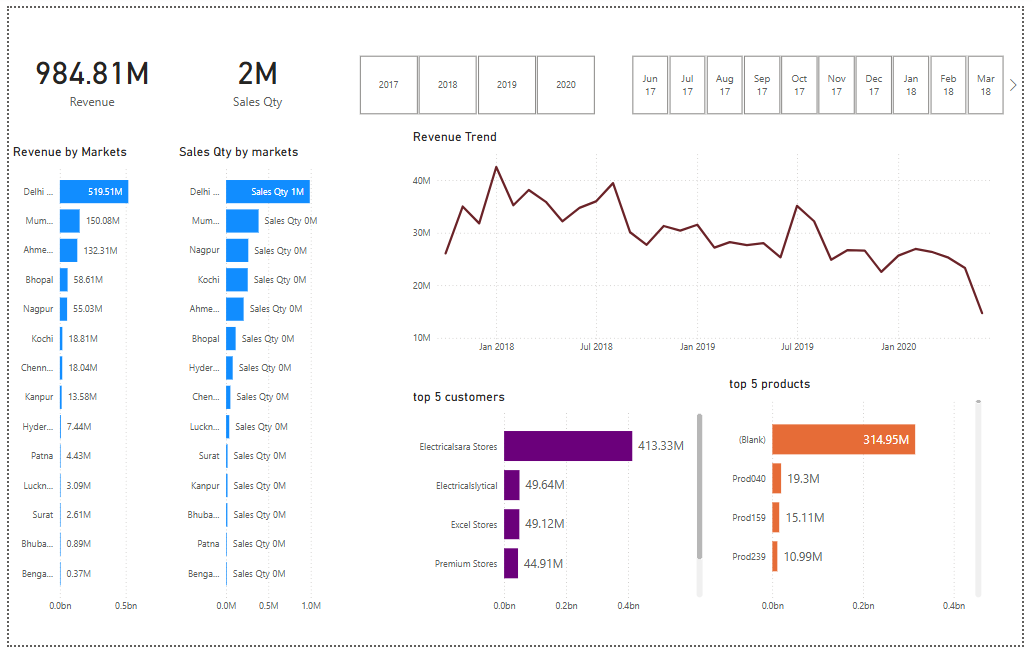

What the dashboard file says about the page in this screenshot:
{"tool":"powerbi","page":{"name":"Page 1","canvas":[1350,850],"ordinal":0},"visuals":[{"type":"card","fields":{"Values":["Basemeasure.Revenue"]},"box":[0,1.7,221.7,181.7],"z":0},{"type":"card","fields":{"Values":["Basemeasure.Sales Qty"]},"box":[221.7,1.7,220,181.7],"z":1000},{"type":"barChart","title":"Revenue by Markets","fields":{"Y":["Basemeasure.Revenue"],"Category":["sales markets.markets_name"]},"box":[0,181.7,221.7,633.3],"z":2000},{"type":"barChart","title":"Sales Qty by markets","fields":{"Y":["Basemeasure.Sales Qty"],"Category":["sales markets.markets_name"]},"box":[221.7,181.7,220,633.3],"z":3000},{"type":"slicer","fields":{"Values":["sales date.year"]},"box":[441.7,56.7,363.3,91.7],"z":4000},{"type":"slicer","fields":{"Values":["sales date.cy_date"]},"box":[805,56.7,545,91.7],"z":4001},{"type":"barChart","title":"top 5 customers","fields":{"Y":["Basemeasure.Revenue"],"Category":["sales customers.custmer_name"]},"box":[533.3,508.3,396.7,306.7],"z":4002},{"type":"barChart","title":"top 5 products","fields":{"Y":["Basemeasure.Revenue"],"Category":["sales products.product_code"]},"box":[955,490,346.7,325],"z":4003},{"type":"lineChart","title":"Revenue Trend","fields":{"Y":["Basemeasure.Revenue"],"Category":["sales date.cy_date"]},"box":[533.3,161.7,793.3,308.3],"z":4004}]}

Visuals, with their boxes in screenshot pixels (x1, y1, x2, y2), scaled from the page's 1350x850 canvas onto the 1032x653 screenshot:
card - Basemeasure.Revenue: 0 1 169 141
card - Basemeasure.Sales Qty: 169 1 338 141
"Revenue by Markets" barChart: 0 140 169 626
"Sales Qty by markets" barChart: 169 140 338 626
slicer - sales date.year: 338 44 615 114
slicer - sales date.cy_date: 615 44 1031 114
"top 5 customers" barChart: 408 390 711 626
"top 5 products" barChart: 730 376 995 626
"Revenue Trend" lineChart: 408 124 1014 361
